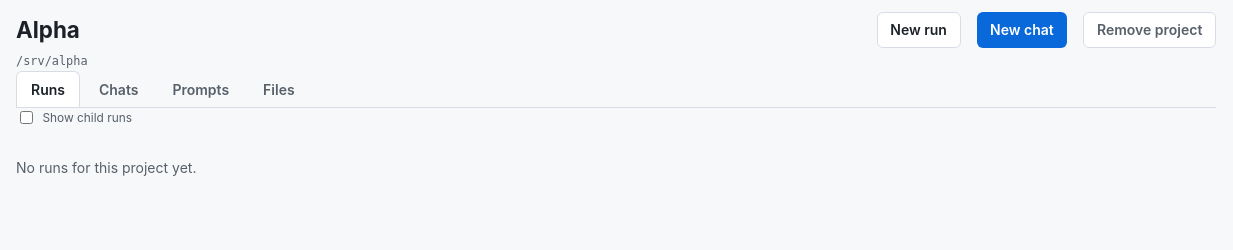
ProjectView › Chats pane lists chats with a StatusBadge and short-id
Click the tab with test id "tab-chats" at (119, 89), box x1=84 y1=71 x2=154 y2=107
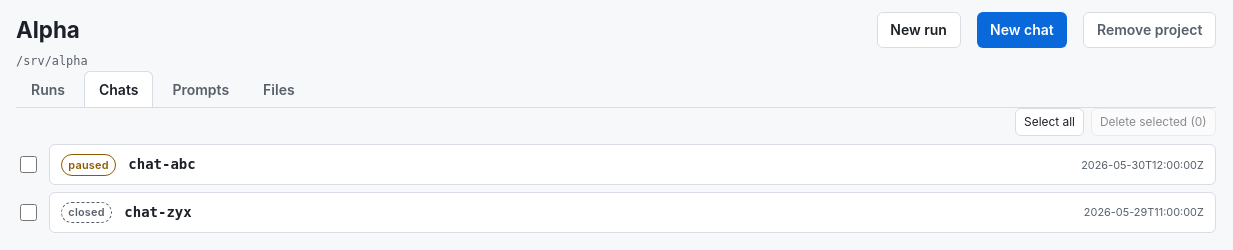
Now the list with test id "chats-list" is shown, box x1=16 y1=144 x2=1216 y2=233
Now the button with test id "chat-row-chat-abcdef123456" is shown, box x1=49 y1=144 x2=1216 y2=185
Now the button with test id "chat-row-chat-zyxwvu654321" is shown, box x1=49 y1=192 x2=1216 y2=233
